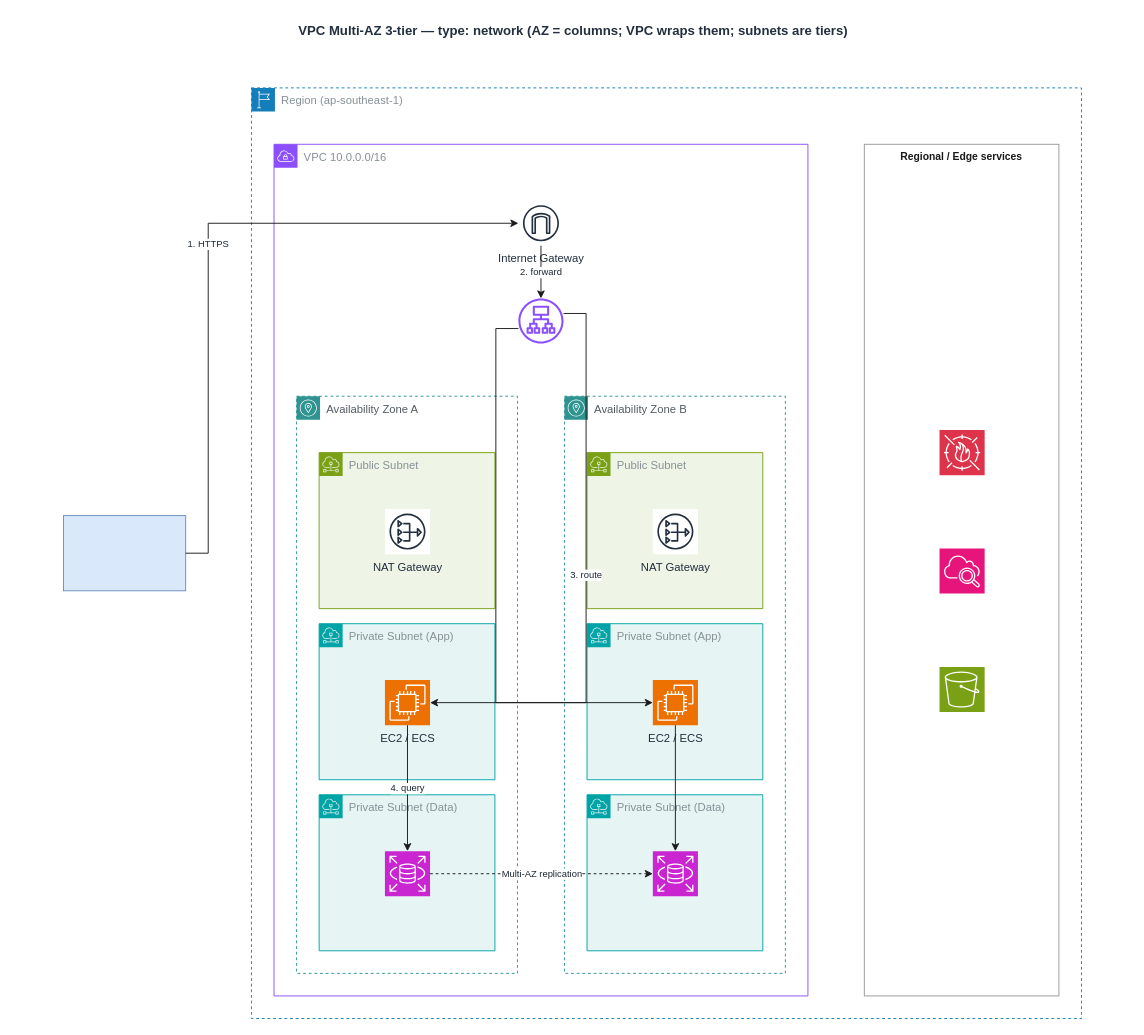
The diagram is 1144 pixels wide and 1035 high, and some of its shapes have lost their labels. Here are the shapes that lost their labels. From the top down, the centre of each, then its label:
At point (540, 320): "Application Load Balancer (Multi-AZ)".
At point (962, 452): "AWS WAF".
At point (124, 553): "Users / Internet".
At point (962, 571): "CloudWatch".
At point (962, 689): "S3 (assets/logs)".
At point (407, 873): "RDS (Primary)".
At point (675, 873): "RDS (Standby)".
